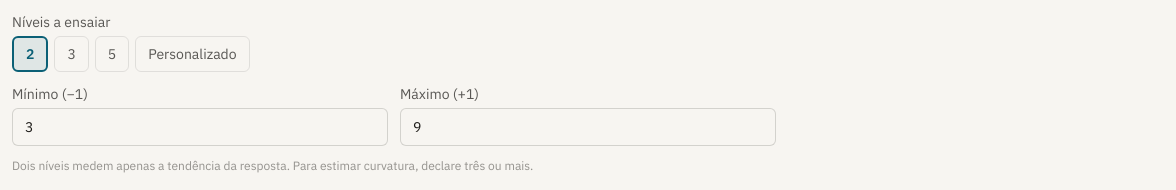
it: NiveisFator — fator quantitativo › alterar o máximo move o centro automaticamente
Click the radio button labelled "3" at (72, 54), box [54,36,89,72]
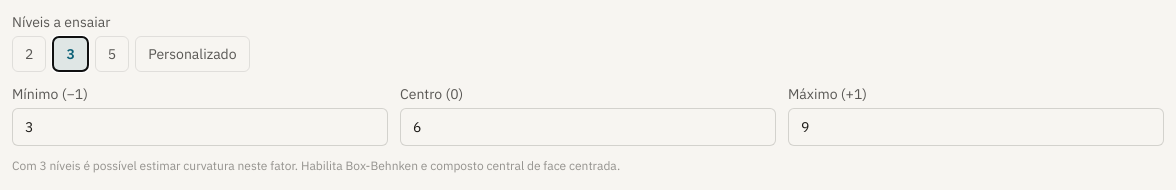
Replace the text in the number field labelled "Máximo (+1)" with "13" at (976, 127), box [788,108,1164,146]
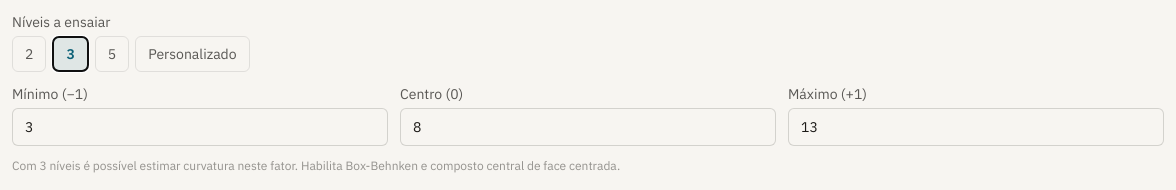
Expected: the number field labelled "Centro (0)" holds "8", [400,108,776,146]
